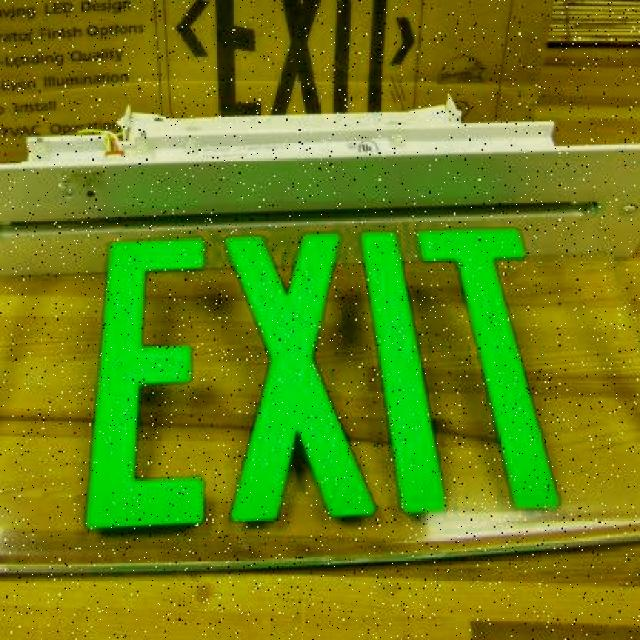emergency_exit: (2, 121, 638, 635), (2, 139, 638, 584), (82, 220, 565, 537)
